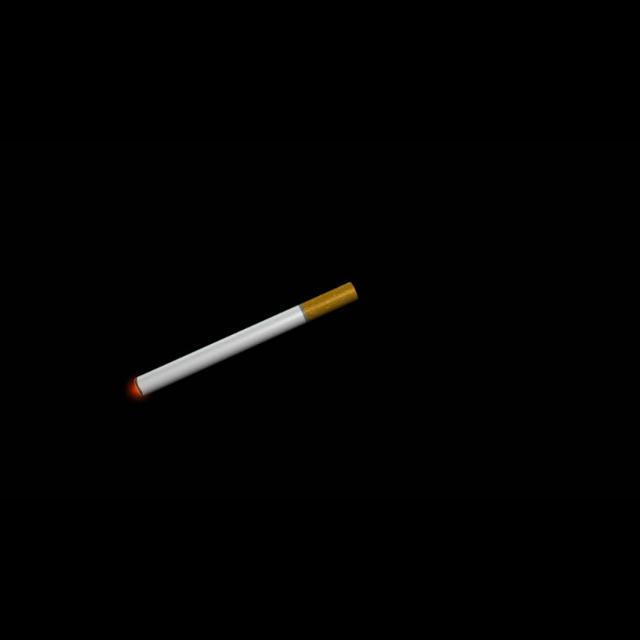rokok: (123, 278, 357, 406)
